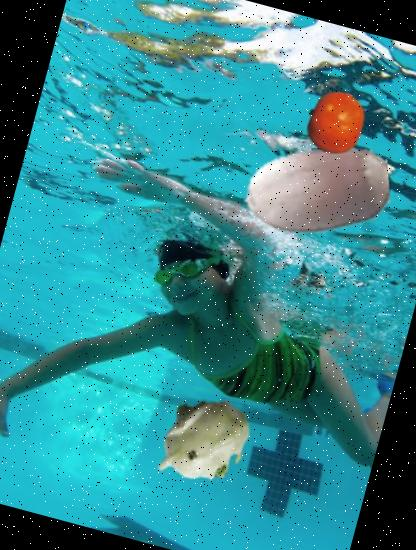Clementine: (296, 84, 374, 162)
Hazelnut: (226, 103, 406, 282)
Kohlrabi: (136, 377, 266, 507)
